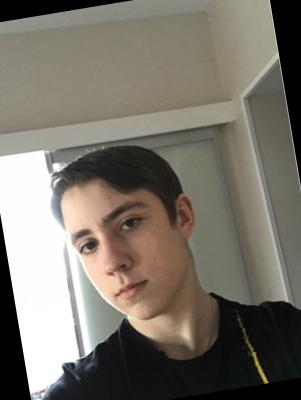without_mask: (62, 193, 180, 333)
